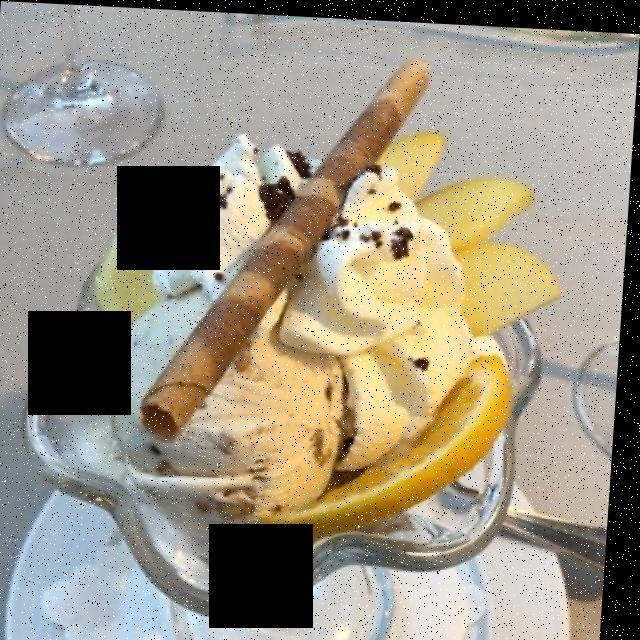apple: (94, 126, 564, 343)
grapes: (167, 154, 208, 208)
orange: (260, 356, 524, 538)
